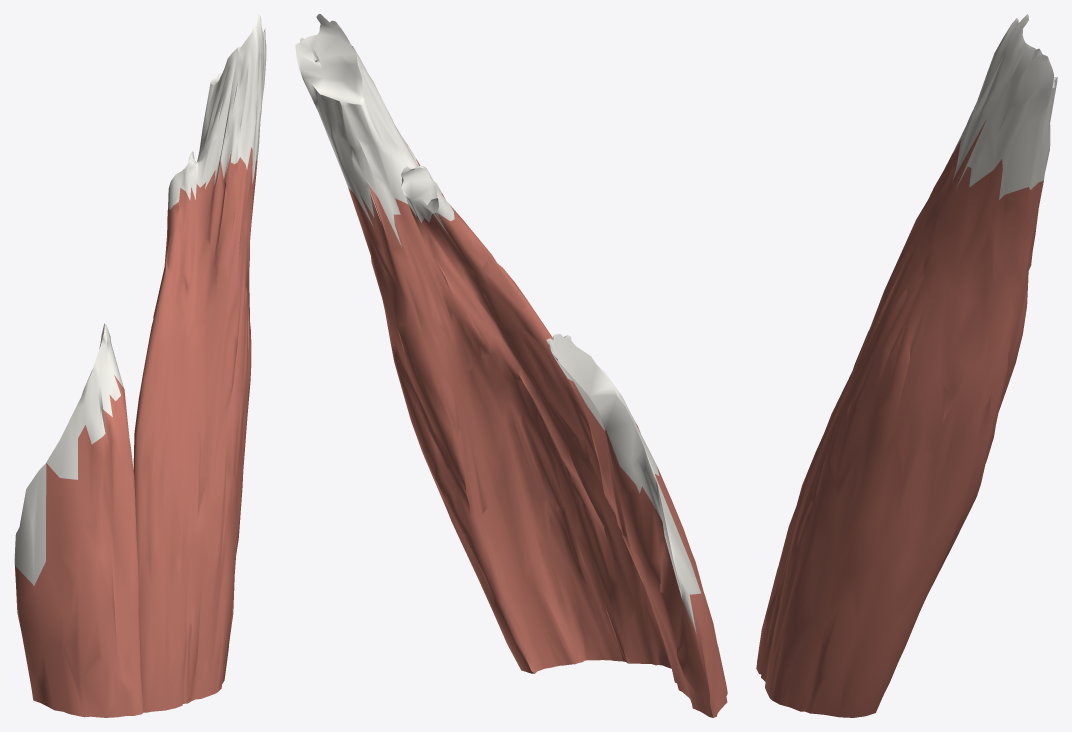
The model's file is flechisseur-superficiel-doigts.glb.
3 renders of one model, left to right at view 1: azimuth 30°, elevation 25°; view 2: azimuth 150°, elevation 25°; view 3: azimuth 270°, elevation 25°, orthographic. The views are drawn at different scales.
Parts seen in each view (by area): view 1: flechisseur-superficiel-doigts; view 2: flechisseur-superficiel-doigts; view 3: flechisseur-superficiel-doigts.
Boxes of the visible parts, box(x1,y1,x2,y2) form: flechisseur-superficiel-doigts: box(14, 14, 266, 717); flechisseur-superficiel-doigts: box(295, 14, 727, 717); flechisseur-superficiel-doigts: box(756, 14, 1057, 717).
Size of the model in its own units: 0.0783 by 0.1448 by 0.0511.
